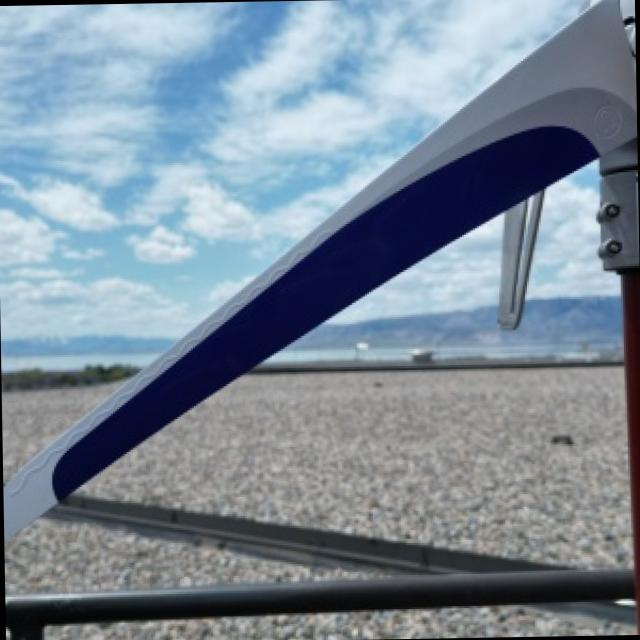healthy: (278, 569, 630, 609)
